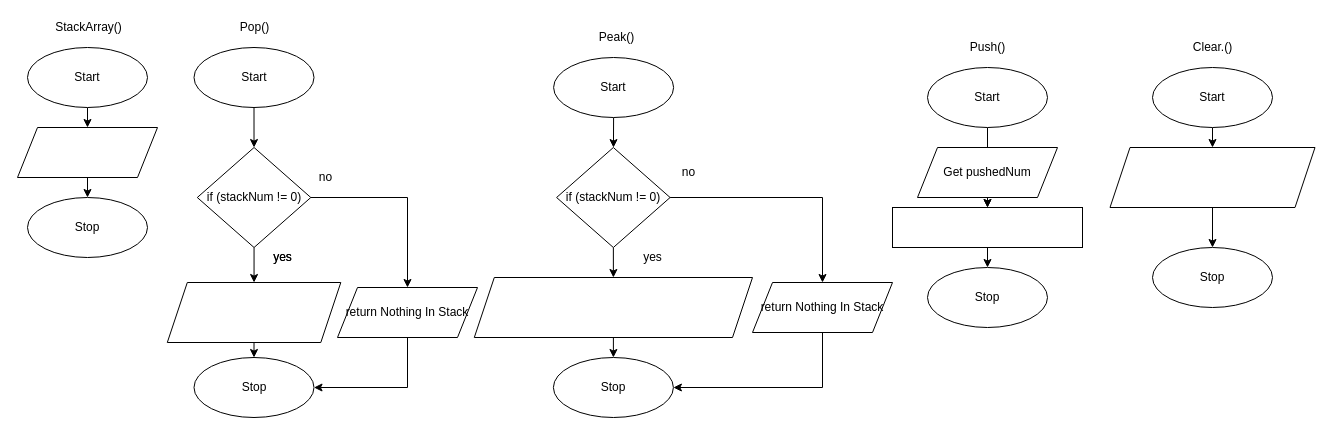
The diagram is 1333 pixels wide and 435 high, and some of its shapes have lost their labels. Here are the shapes that lost their labels. From the top down, the centre of each, then its label:
At (87,152): "return stackClass".
At (1212,177): "return this.stackClass.length = 0".
At (987,227): "this.stackClass.push(pushedNum)".
At (253,312): "return this.stackClass.pop()".
At (612,307): "return this,stackClass[this.stackClass.length-1]".
